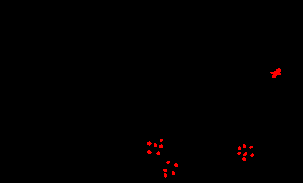Target: (270, 68, 281, 78), (147, 141, 152, 146), (147, 150, 152, 154), (159, 144, 163, 148), (156, 151, 160, 155), (243, 152, 247, 156), (250, 153, 254, 157), (242, 157, 246, 161), (174, 163, 178, 167), (164, 173, 167, 178), (154, 143, 157, 147), (243, 144, 246, 148), (238, 146, 241, 150), (249, 146, 253, 149), (237, 152, 241, 155), (166, 161, 170, 164), (163, 169, 167, 172), (172, 171, 175, 175), (160, 139, 163, 142)
